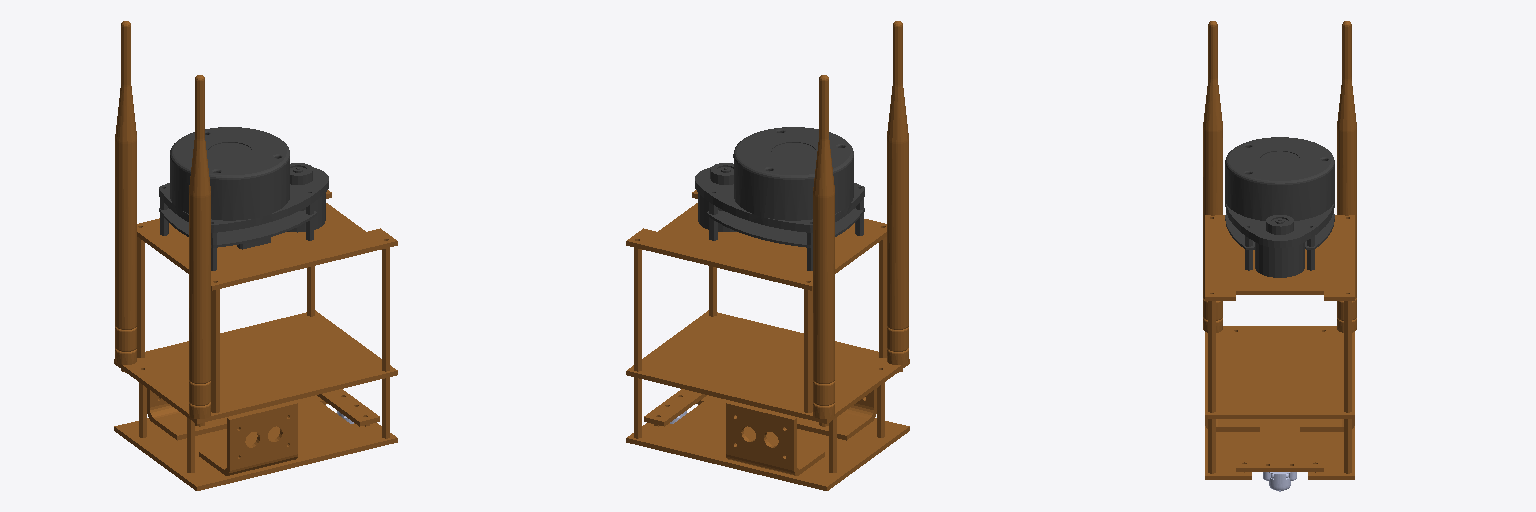
robot.urdf — swarm_v5:
<?xml version="1.0" encoding="utf-8"?>
<!-- This URDF was automatically created by SolidWorks to URDF Exporter! Originally created by [author] ([email redacted]) 
     Commit Version: 1.6.0-4-g7f85cfe  Build Version: 1.6.7995.38578
     For more information, please see http://wiki.ros.org/sw_urdf_exporter -->
<robot
  name="swarm_v5">
  <link
    name="base_link">
    <inertial>
      <origin
        xyz="0.01267728125637 5.20063766334955E-06 0.0462944934862715"
        rpy="0 0 0" />
      <mass
        value="0.180914682543714" />
      <inertia
        ixx="0.000220908293497034"
        ixy="-5.21549197182762E-21"
        ixz="1.40827488155254E-20"
        iyy="0.000286052367311795"
        iyz="6.3634090739951E-21"
        izz="0.000240491067161195" />
    </inertial>
    <visual>
      <origin
        xyz="0 0 0"
        rpy="0 0 0" />
      <geometry>
        <mesh
          filename="package://swarm_v5/meshes/base_link.STL" />
      </geometry>
      <material
        name="">
        <color
          rgba="0.619607843137255 0.411764705882353 0.2 1" />
      </material>
    </visual>
    <collision>
      <origin
        xyz="0 0 0"
        rpy="0 0 0" />
      <geometry>
        <mesh
          filename="package://swarm_v5/meshes/base_link.STL" />
      </geometry>
    </collision>
  </link>
  <link
    name="Laser_Link">
    <inertial>
      <origin
        xyz="0.00676832715317712 -9.17768374699285E-05 -0.0219378521073858"
        rpy="0 0 0" />
      <mass
        value="1.33041048124832" />
      <inertia
        ixx="0.000614736954229148"
        ixy="-8.00271259590374E-07"
        ixz="0.000158189979278382"
        iyy="0.000960497023041249"
        iyz="-3.09603626647979E-06"
        izz="0.00109812375363565" />
    </inertial>
    <visual>
      <origin
        xyz="0 0 0"
        rpy="0 0 0" />
      <geometry>
        <mesh
          filename="package://swarm_v5/meshes/Laser_Link.STL" />
      </geometry>
      <material
        name="">
        <color
          rgba="0.298039215686275 0.298039215686275 0.298039215686275 1" />
      </material>
    </visual>
    <collision>
      <origin
        xyz="0 0 0"
        rpy="0 0 0" />
      <geometry>
        <mesh
          filename="package://swarm_v5/meshes/Laser_Link.STL" />
      </geometry>
    </collision>
  </link>
  <joint
    name="Laser_Joint"
    type="fixed">
    <origin
      xyz="0.012445 2.49999999999487E-05 0.162017592572946"
      rpy="0 0 0" />
    <parent
      link="base_link" />
    <child
      link="Laser_Link" />
    <axis
      xyz="0 0 0" />
  </joint>
  <link
    name="Right_Link">
    <inertial>
      <origin
        xyz="-1.6662761448405E-11 0.00153990775115254 8.09391442757601E-10"
        rpy="0 0 0" />
      <mass
        value="0.0351748276981308" />
      <inertia
        ixx="1.52374631575614E-05"
        ixy="-5.8863308574066E-15"
        ixz="3.70003685728499E-10"
        iyy="2.57858861550235E-05"
        iyz="-8.01164843482923E-14"
        izz="1.52367993678117E-05" />
    </inertial>
    <visual>
      <origin
        xyz="0 0 0"
        rpy="0 0 0" />
      <geometry>
        <mesh
          filename="package://swarm_v5/meshes/Right_Link.STL" />
      </geometry>
      <material
        name="">
        <color
          rgba="0.792156862745098 0.819607843137255 0.933333333333333 1" />
      </material>
    </visual>
    <collision>
      <origin
        xyz="0 0 0"
        rpy="0 0 0" />
      <geometry>
        <mesh
          filename="package://swarm_v5/meshes/Right_Link.STL" />
      </geometry>
    </collision>
  </link>
  <joint
    name="Right_Joint"
    type="continuous">
    <origin
      xyz="0 -0.06745 0.000117592572945441"
      rpy="0 0 0" />
    <parent
      link="base_link" />
    <child
      link="Right_Link" />
    <axis
      xyz="0 -1 0" />
  </joint>
  <link
    name="Left_Link">
    <inertial>
      <origin
        xyz="4.2876725087071E-10 -0.00153990775115266 -6.86695617035937E-10"
        rpy="0 0 0" />
      <mass
        value="0.0351748276981322" />
      <inertia
        ixx="1.52376034131887E-05"
        ixy="4.87494015510474E-14"
        ixz="1.55341040666148E-10"
        iyy="2.57858861550243E-05"
        iyz="-6.38497912043548E-14"
        izz="1.52366591121853E-05" />
    </inertial>
    <visual>
      <origin
        xyz="0 0 0"
        rpy="0 0 0" />
      <geometry>
        <mesh
          filename="package://swarm_v5/meshes/Left_Link.STL" />
      </geometry>
      <material
        name="">
        <color
          rgba="0.792156862745098 0.819607843137255 0.933333333333333 1" />
      </material>
    </visual>
    <collision>
      <origin
        xyz="0 0 0"
        rpy="0 0 0" />
      <geometry>
        <mesh
          filename="package://swarm_v5/meshes/Left_Link.STL" />
      </geometry>
    </collision>
  </link>
  <joint
    name="Left_Joint"
    type="continuous">
    <origin
      xyz="0 0.0674499999999999 0.000117592572945246"
      rpy="0 0 0" />
    <parent
      link="base_link" />
    <child
      link="Left_Link" />
    <axis
      xyz="0 -1 0" />
  </joint>
  <link
    name="Caster_Link">
    <inertial>
      <origin
        xyz="5.93969318174459E-15 8.02136135291676E-15 0.00867392709143563"
        rpy="0 0 0" />
      <mass
        value="0.00198747155715615" />
      <inertia
        ixx="5.7426031556466E-08"
        ixy="5.3468134776925E-12"
        ixz="-2.52857309078266E-20"
        iyy="3.91335560100103E-08"
        iyz="-3.50830277259415E-20"
        izz="6.23840461880545E-08" />
    </inertial>
    <visual>
      <origin
        xyz="0 0 0"
        rpy="0 0 0" />
      <geometry>
        <mesh
          filename="package://swarm_v5/meshes/Caster_Link.STL" />
      </geometry>
      <material
        name="">
        <color
          rgba="0.792156862745098 0.819607843137255 0.933333333333333 1" />
      </material>
    </visual>
    <collision>
      <origin
        xyz="0 0 0"
        rpy="0 0 0" />
      <geometry>
        <mesh
          filename="package://swarm_v5/meshes/Caster_Link.STL" />
      </geometry>
    </collision>
  </link>
  <joint
    name="Caster_Joint"
    type="fixed">
    <origin
      xyz="0.0925499999999999 0 -0.0338824074270547"
      rpy="0 0 0" />
    <parent
      link="base_link" />
    <child
      link="Caster_Link" />
    <axis
      xyz="0 0 0" />
  </joint>
</robot>

--- Render facts (derived) ---
The picture shows the robot from 3 angles, left to right: view 1: azimuth 30°, elevation 25°; view 2: azimuth 150°, elevation 25°; view 3: azimuth 270°, elevation 25°; orthographic projection.
Model swarm_v5 with 5 links and 4 joints (2 continuous, 2 fixed), rooted at base_link, posed every joint at zero.
Links seen in each view (by area): view 1: base_link, Laser_Link; view 2: base_link, Laser_Link; view 3: base_link, Laser_Link.
Boxes of the visible links, x1,y1,x2,y2 form: base_link: [114, 21, 397, 490]; Laser_Link: [159, 127, 328, 270]; base_link: [626, 21, 909, 490]; Laser_Link: [695, 127, 864, 270]; base_link: [1203, 21, 1356, 479]; Laser_Link: [1225, 137, 1334, 277].
Bounding box of the posed robot: 0.1393 × 0.0986 × 0.2728 m (x, y, z).
3 mesh visuals loaded from 5 distinct referenced files (3 binary STL); not drawn: 2 (reference not matched to a file when rendering).